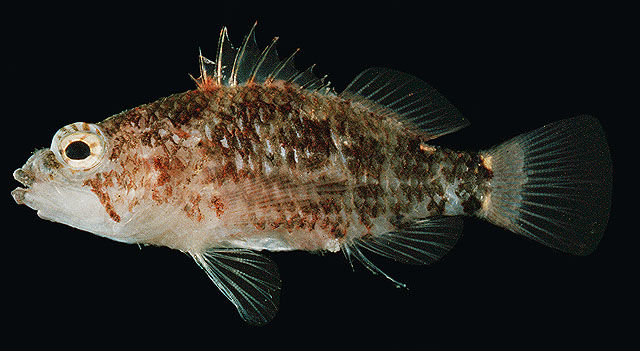fish: (11, 21, 611, 325)
